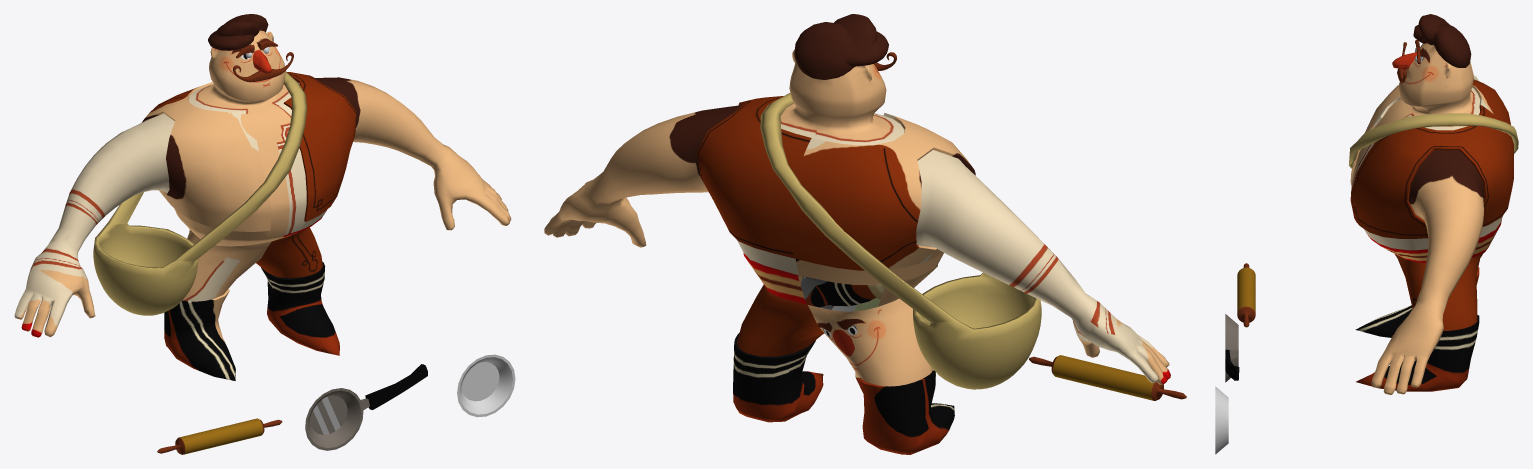
The model's file is Cheef.fbx.
The picture shows the model from 3 angles, left to right: view 1: azimuth 30°, elevation 25°; view 2: azimuth 150°, elevation 25°; view 3: azimuth 270°, elevation 25°; orthographic projection. The views are drawn at different scales.
Parts seen in each view (by area): view 1: polySurface7, pSphere2, PanWHandle, Pan, pCylinder1; view 2: polySurface7, pSphere2, pCylinder1; view 3: polySurface7, pSphere2, pCylinder1, PanWHandle, Pan.
Part boxes in pixels (x1,y1,x2,y2): polySurface7: (14,14,511,380); pSphere2: (93,72,307,315); PanWHandle: (305,364,427,450); Pan: (457,354,515,417); pCylinder1: (157,418,282,454); polySurface7: (544,14,1170,454); pSphere2: (760,93,1041,389); pCylinder1: (1029,355,1186,400); polySurface7: (1350,14,1513,394); pSphere2: (1348,113,1518,168); pCylinder1: (1237,263,1255,327); PanWHandle: (1225,314,1239,382); Pan: (1215,386,1228,454).
Size of the model in its own units: 2.5 by 1.74 by 1.31.
8 materials, 1 textured.
